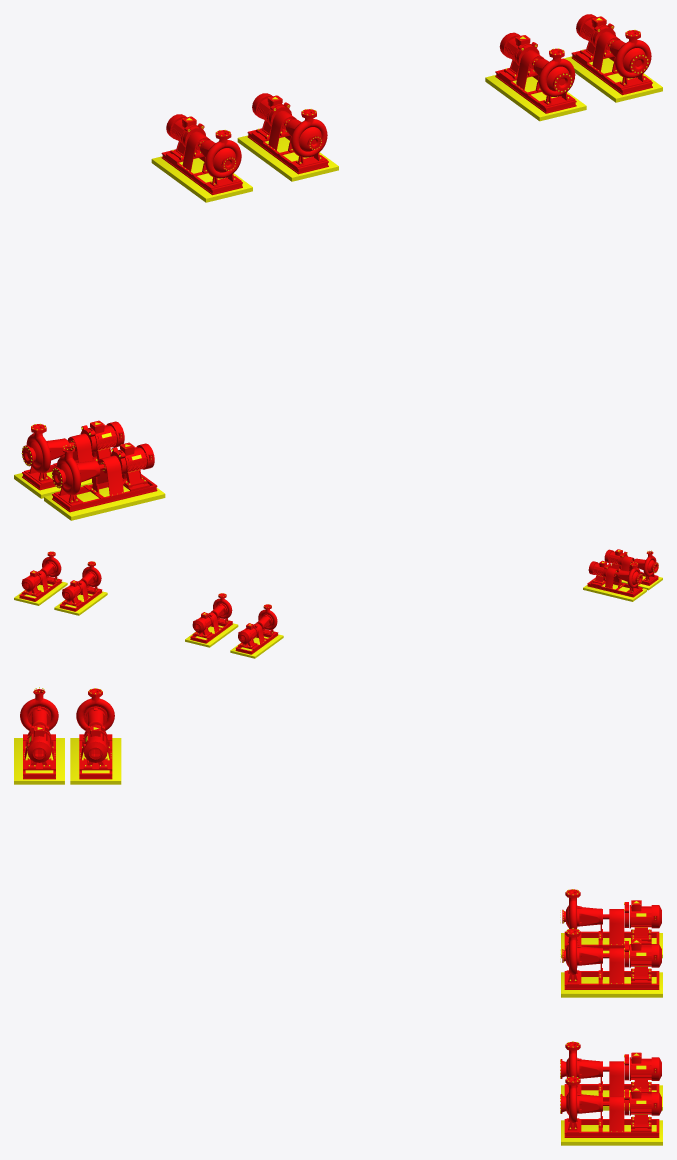
File: Pump.FBX
3 views of the same model, one above another, from view 1: azimuth 30°, elevation 25°; view 2: azimuth 150°, elevation 25°; view 3: azimuth 270°, elevation 25° (orthographic). The views are drawn at different scales.
Visible parts, largest first — view 1: P_231A, P-221B, P-221A, P-211A, P-211B, P_231B; view 2: P_231B, P-211A, P-221A, P-211B, P-221B, P_231A; view 3: P-211B, P-221B, P_231B, P-221A, P_231A, P-211A.
Part boxes in pixels (box(x1,y1,x2,y2)): P_231A: box(44, 442, 165, 520); P-221B: box(237, 93, 338, 181); P-221A: box(151, 114, 252, 202); P-211A: box(485, 32, 586, 121); P-211B: box(563, 14, 662, 102); P_231B: box(14, 420, 124, 498); P_231B: box(583, 560, 646, 601); P-211A: box(54, 561, 107, 615); P-221A: box(230, 604, 283, 658); P-211B: box(14, 551, 67, 605); P-221B: box(185, 593, 238, 647); P_231A: box(604, 549, 662, 590); P-211B: box(560, 1076, 662, 1145); P-221B: box(560, 928, 662, 997); P_231B: box(70, 688, 121, 784); P-221A: box(560, 889, 662, 958); P_231A: box(14, 687, 64, 784); P-211A: box(560, 1041, 662, 1110).
Size of the model in its own units: 18709 by 1235 by 12693.
